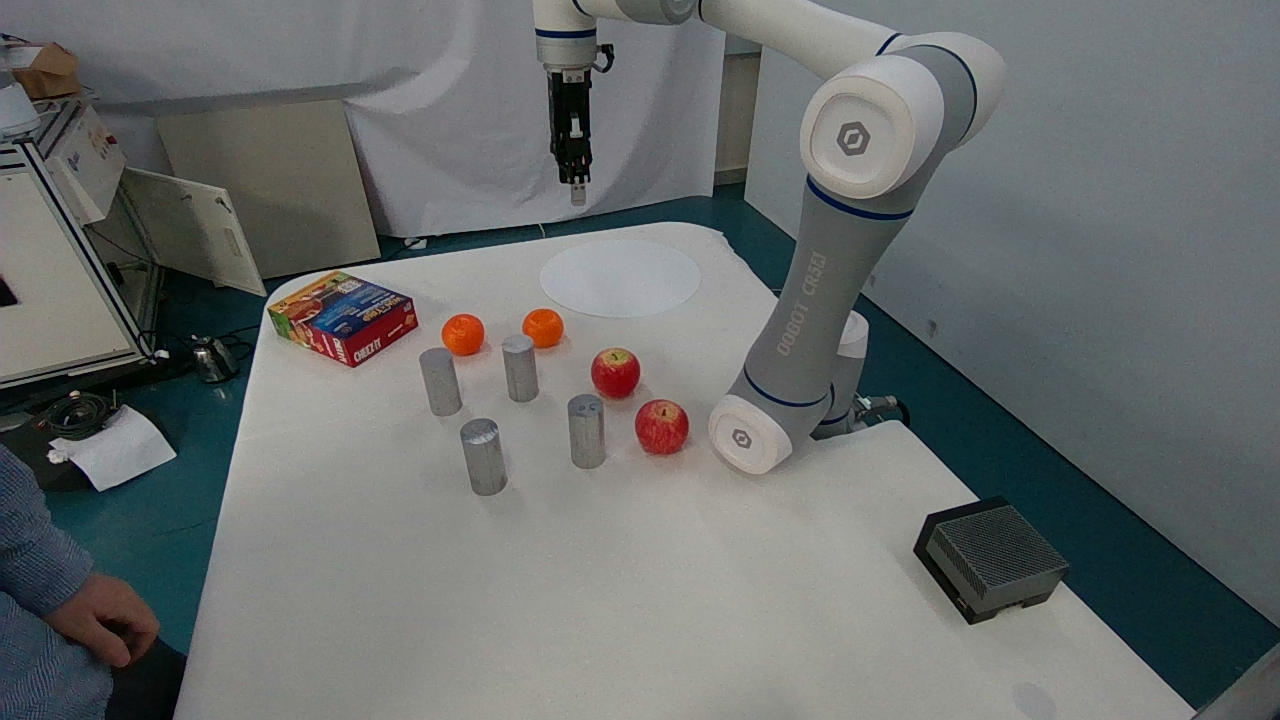apple: (510, 299, 576, 349), (436, 308, 490, 360)
metal rod: (627, 388, 693, 467), (580, 337, 643, 401), (578, 335, 641, 399)
orange: (442, 410, 514, 493), (549, 385, 611, 475), (494, 325, 550, 407), (411, 332, 461, 420)
